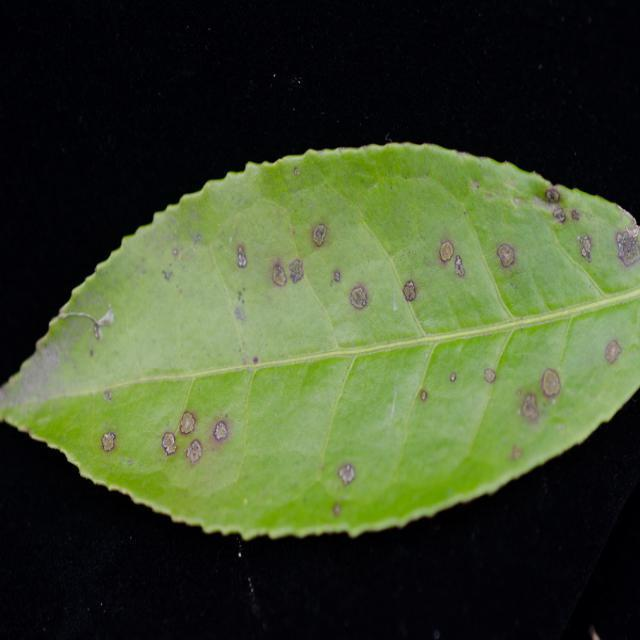Tea red rust: (51, 157, 597, 526)
